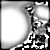node: (1, 7, 30, 50), (34, 5, 50, 21)
